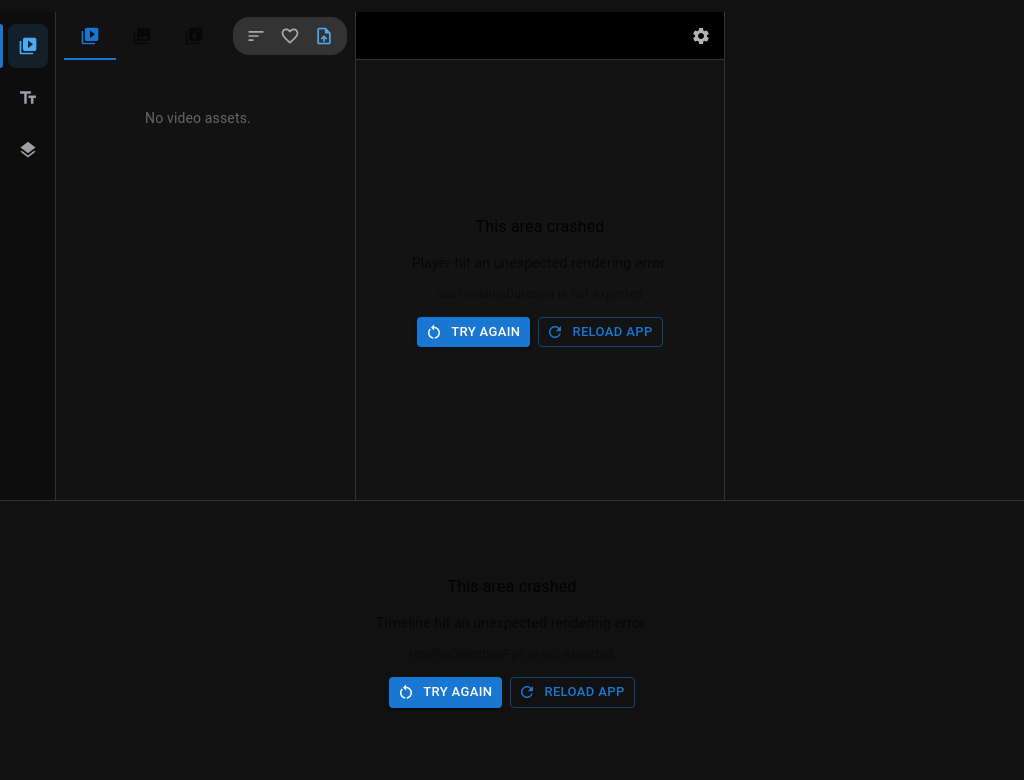
Editor › switches the left panel content when the composite tab is selected
The image size is (1024, 780).
Click the tab named "Composite". click: (28, 150)
box: [8, 128, 48, 172]
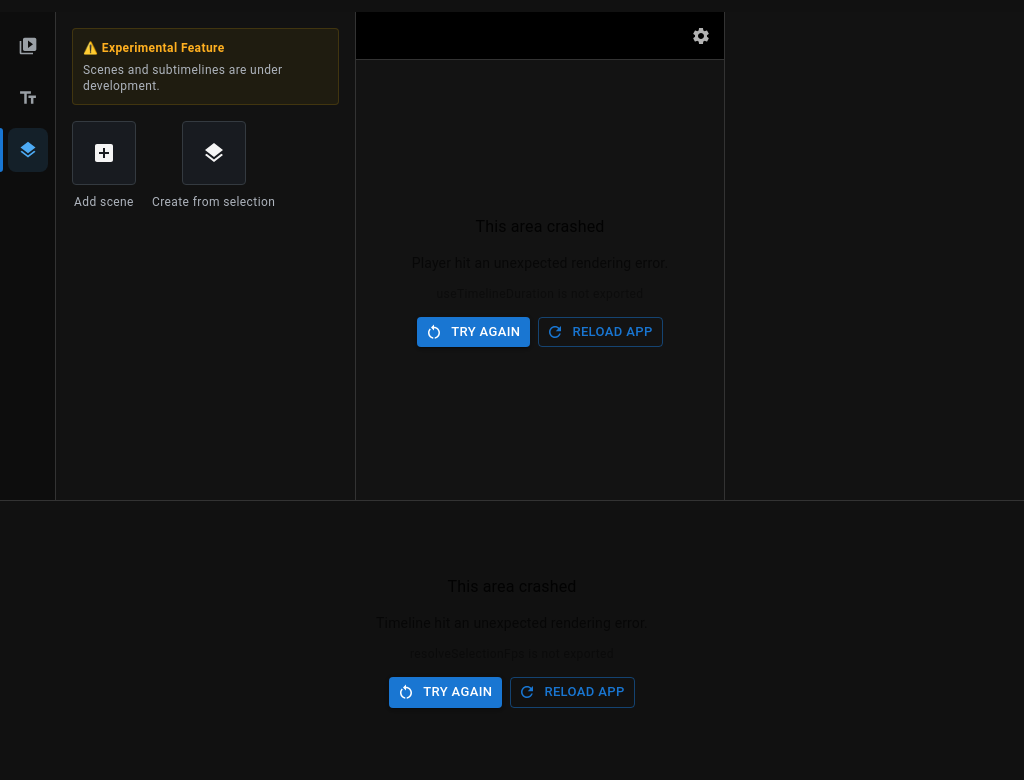
Check: the element with test id "composite-panel" is shown, box [56, 12, 355, 229]
Check: the element with test id "asset-browser" is gone
